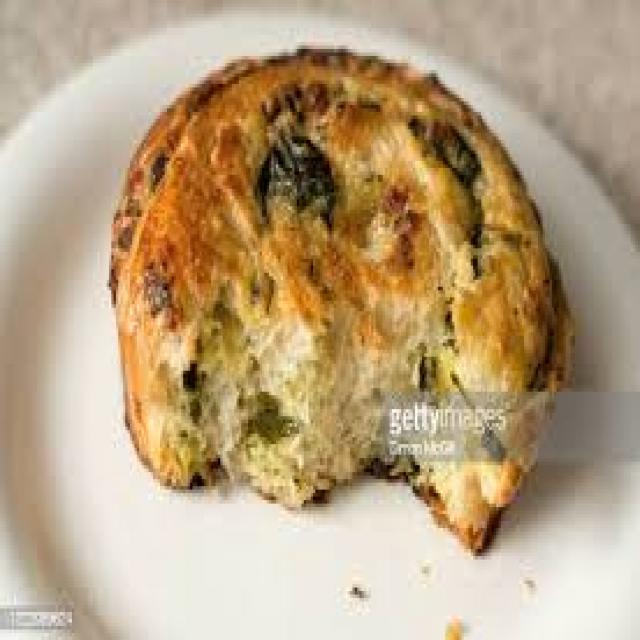organic waste: (112, 42, 570, 556)
